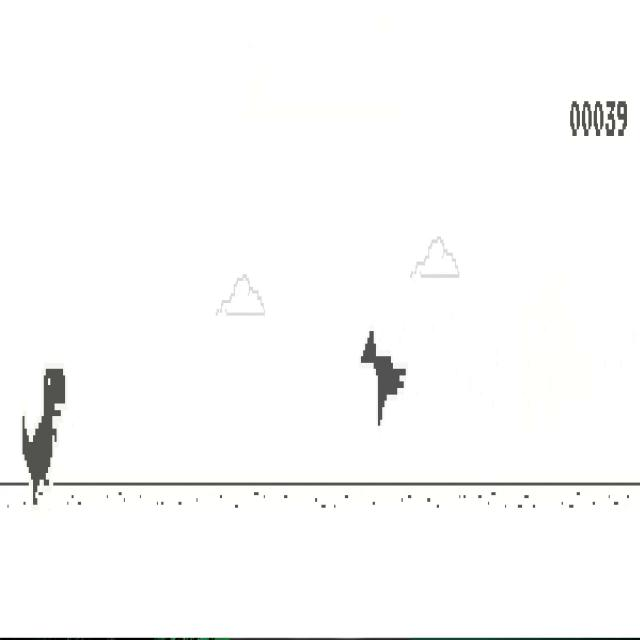dino: (21, 368, 66, 507)
ptero: (361, 329, 406, 428)
